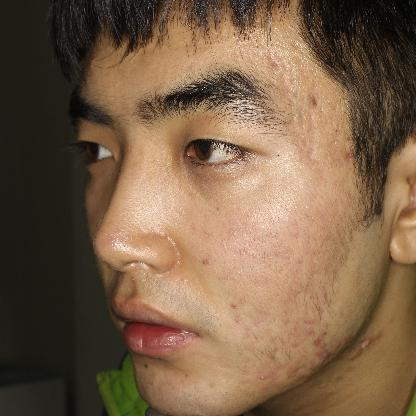Blackheads: (137, 359, 155, 374)
Papules: (305, 90, 327, 115)
